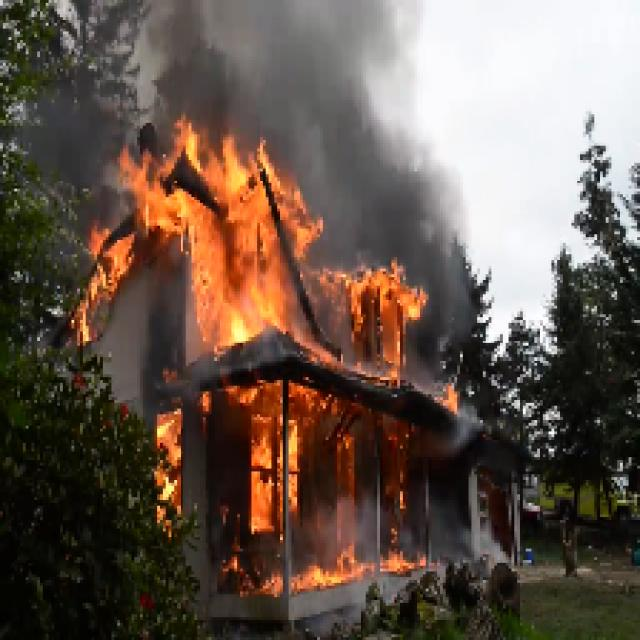fire: (130, 144, 308, 356), (252, 377, 312, 534), (328, 261, 424, 329)
smoke: (182, 3, 408, 127), (325, 137, 441, 243)
